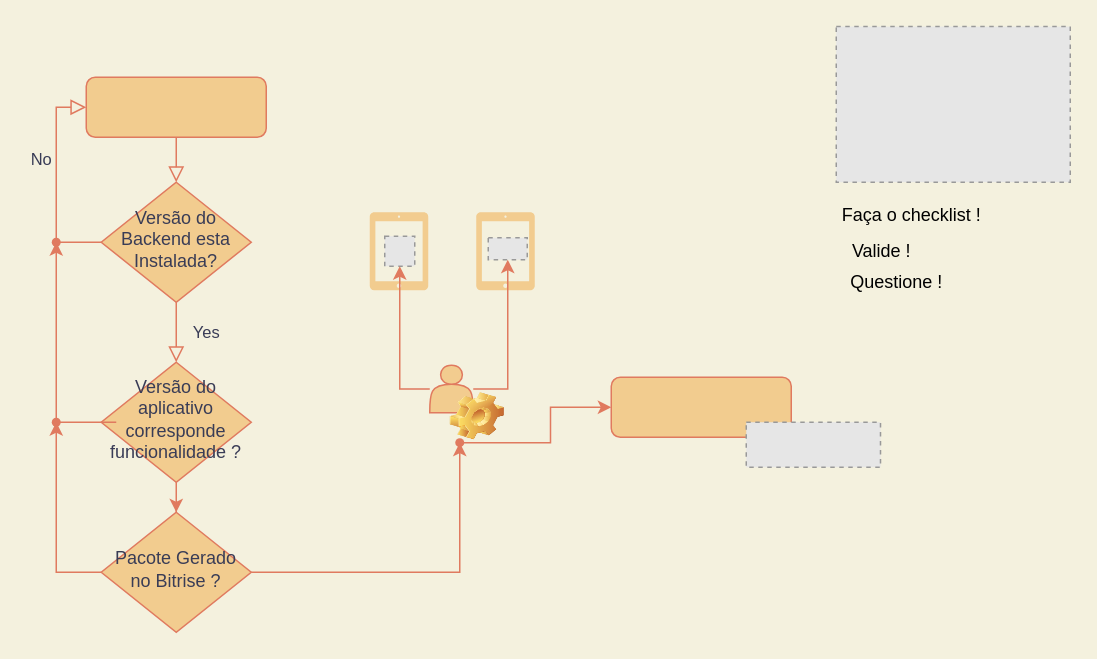
This 1097x659 diagram has some shape labels left out. Grey dashed boxes stand in for pictures. The centre of each missing label's shape, as x and y in pixels:
Liberação DEV Kanban: (175,106)
Salvar evidencia no JIRA: (700,406)
